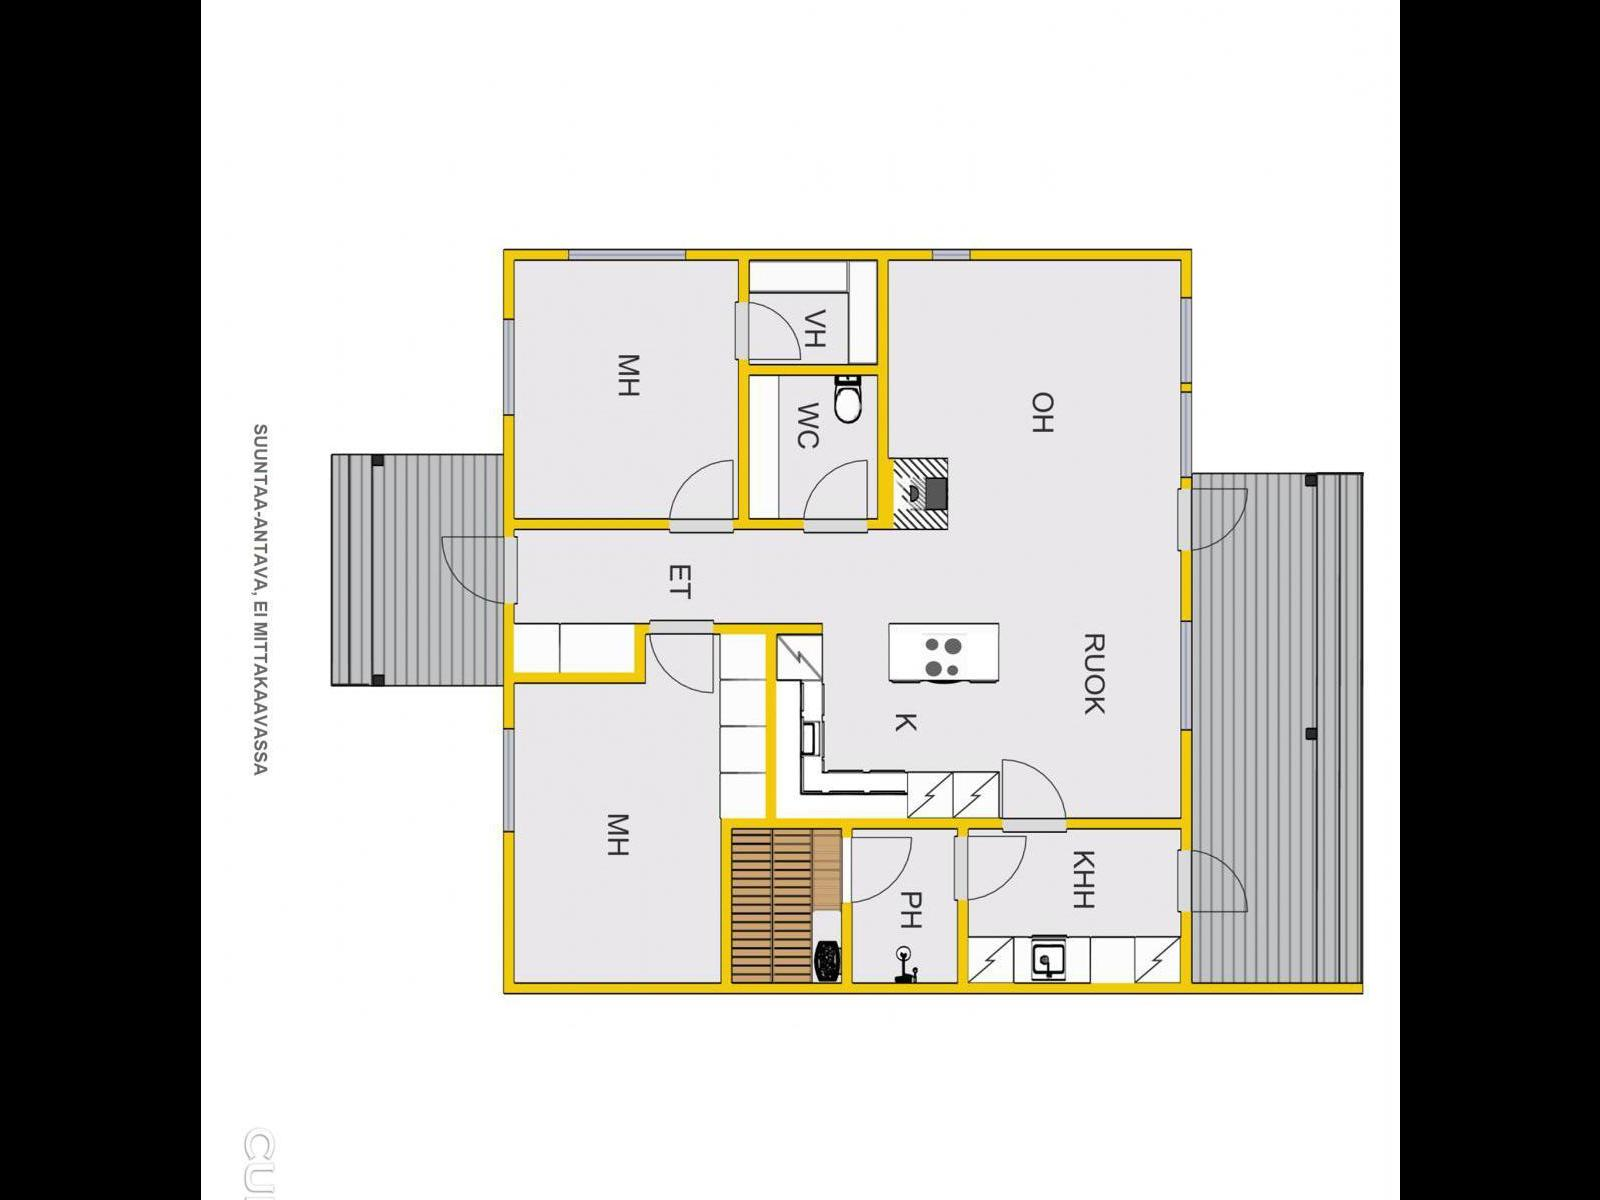bathroom: (769, 372, 874, 519)
door: (438, 533, 525, 620), (1172, 480, 1254, 560), (646, 613, 719, 700), (801, 453, 874, 539), (946, 831, 1029, 905), (833, 836, 917, 909), (1002, 754, 1071, 836), (1173, 848, 1251, 919), (665, 455, 736, 533), (727, 297, 803, 363)
perimeter: (501, 246, 1192, 993)
window: (556, 239, 698, 267), (494, 710, 520, 845), (1173, 608, 1198, 737), (1173, 282, 1201, 389), (1170, 384, 1198, 485), (499, 308, 519, 425), (918, 243, 981, 268)
